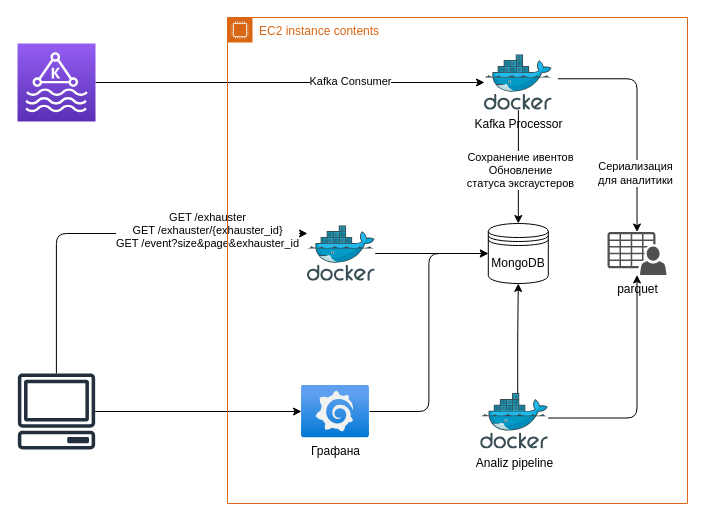
This 705x521 diagram has some shape labels left out. Each missing label, with the centre of its shape:
Evraz Kafka: point 56,82
Frontend: point 56,411
REST Api: point 341,253
